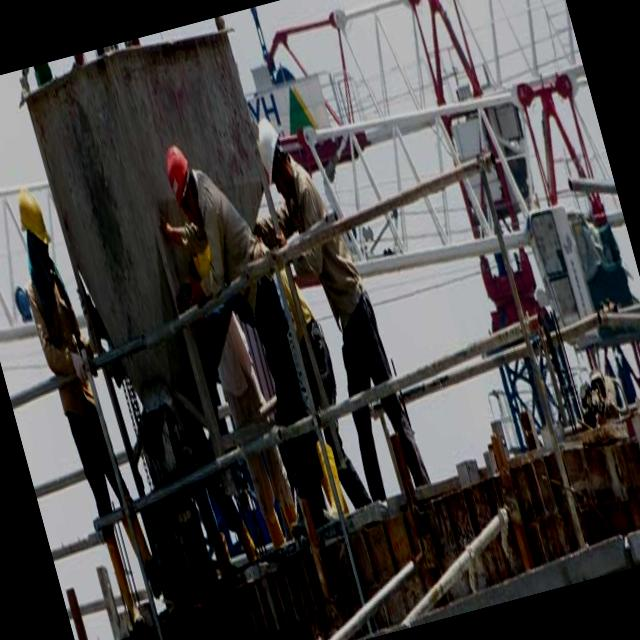helmet: (8, 177, 61, 271), (160, 138, 206, 224), (250, 106, 292, 190)
no-vest: (190, 158, 280, 342), (35, 270, 111, 462), (286, 165, 372, 330)
